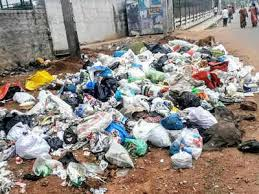garbage: (85, 53, 258, 156), (32, 72, 228, 143), (2, 83, 133, 174), (145, 43, 235, 150)
